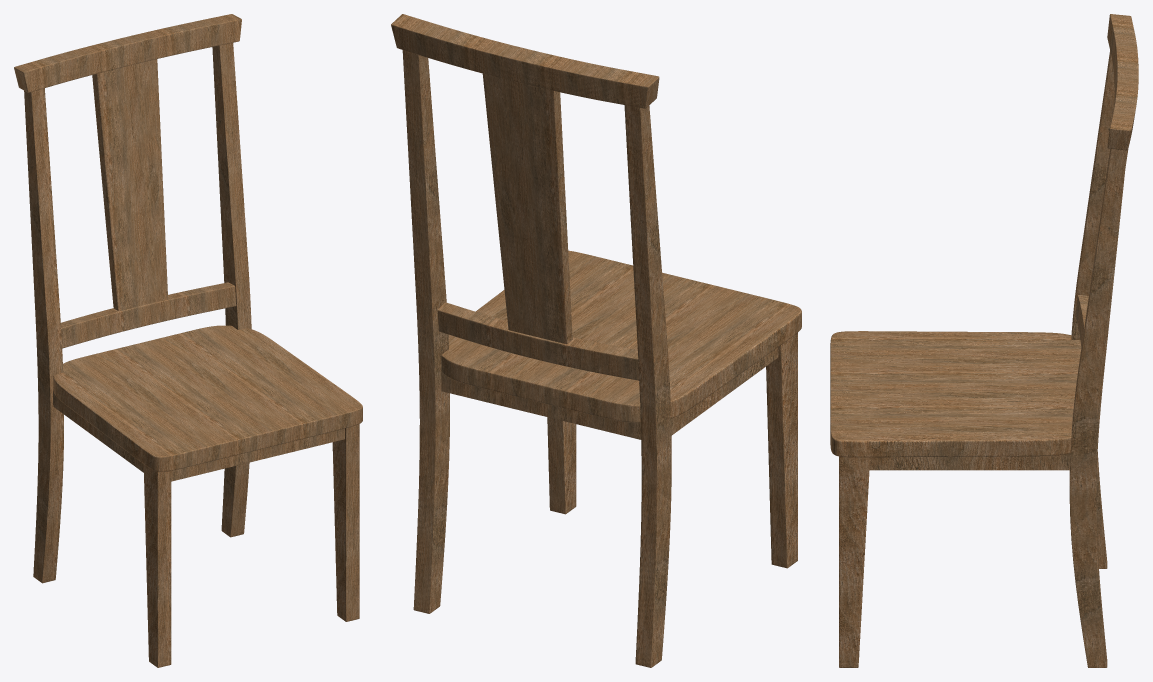
Rendered from uploads_files_5756982_Wooden_Chair.glb.
The picture shows the model from 3 angles, left to right: view 1: azimuth 30°, elevation 25°; view 2: azimuth 150°, elevation 25°; view 3: azimuth 270°, elevation 25°; orthographic projection. The views are drawn at different scales.
Parts seen in each view (by area): view 1: Cube.002; view 2: Cube.002; view 3: Cube.002.
Part boxes in pixels (<box>): Cube.002: <box>14,14,362,667</box>; Cube.002: <box>391,14,801,667</box>; Cube.002: <box>830,14,1138,667</box>.
Size of the model in its own units: 0.3483 by 0.7699 by 0.3956.
1 material, 1 textured.
